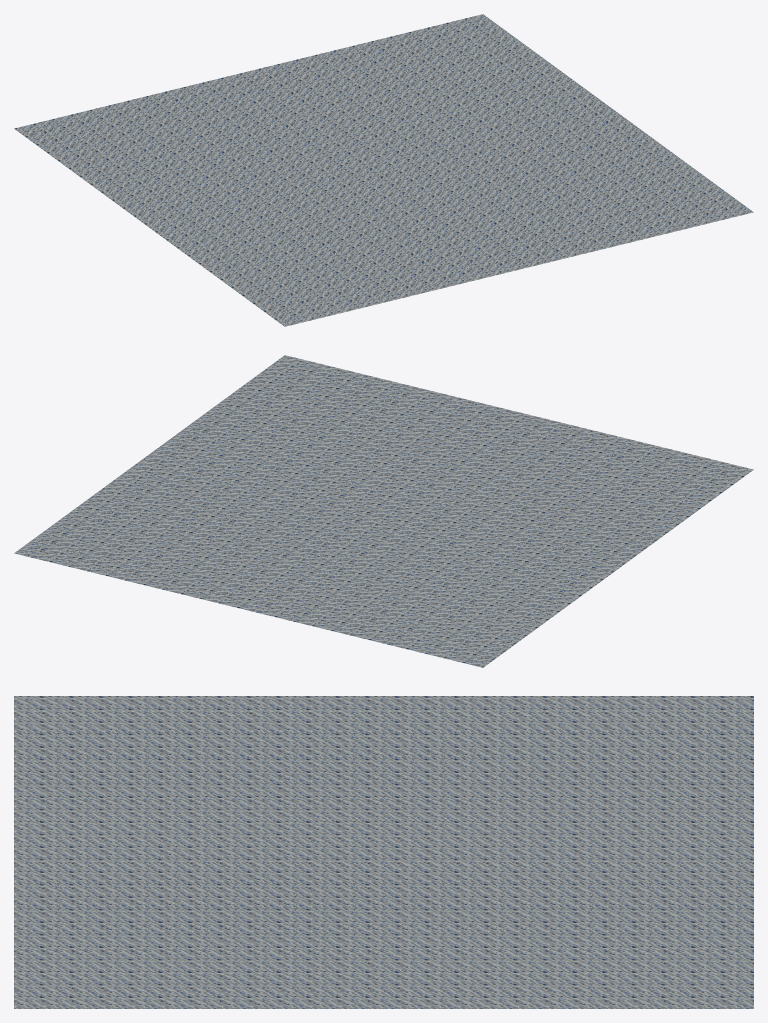
File: SeaSand.obj
3 views of the same model, one above another, from view 1: azimuth 30°, elevation 25°; view 2: azimuth 150°, elevation 25°; view 3: azimuth 270°, elevation 25° (orthographic). The views are drawn at different scales.
Visible parts, largest first — view 1: Plane; view 2: Plane; view 3: Plane.
Boxes of the visible parts, x1,y1,x2,y2 form: Plane: [14, 14, 753, 326]; Plane: [14, 355, 753, 667]; Plane: [14, 696, 753, 1008].
Size of the model in its own units: 1000 by 0 by 1000.
1 material, 1 textured.
